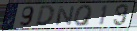1: (99, 4, 109, 26)
9: (112, 3, 129, 27), (19, 5, 35, 27)
D: (34, 4, 55, 28)
N: (54, 5, 76, 27)
Q: (73, 4, 94, 27)
